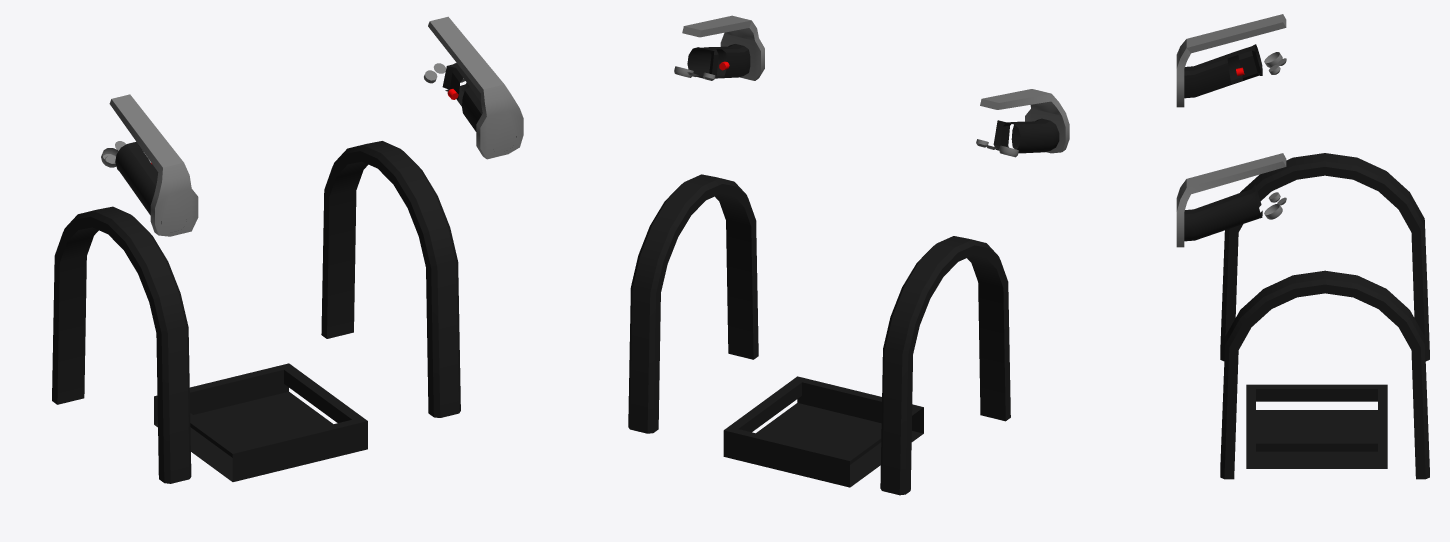
The model's file is ZuoYi_BeiDai.FBX.
3 views of the same model, side by side, from view 1: azimuth 30°, elevation 25°; view 2: azimuth 150°, elevation 25°; view 3: azimuth 270°, elevation 25° (orthographic). The views are drawn at different scales.
Parts seen in each view (by area): view 1: Box009; view 2: Box009; view 3: Box009.
Boxes of the visible parts, x1,y1,x2,y2 form: Box009: (52,16,523,483); Box009: (628,15,1069,495); Box009: (1176,14,1429,479).
Size of the model in its own units: 3 by 2.78 by 2.14.
